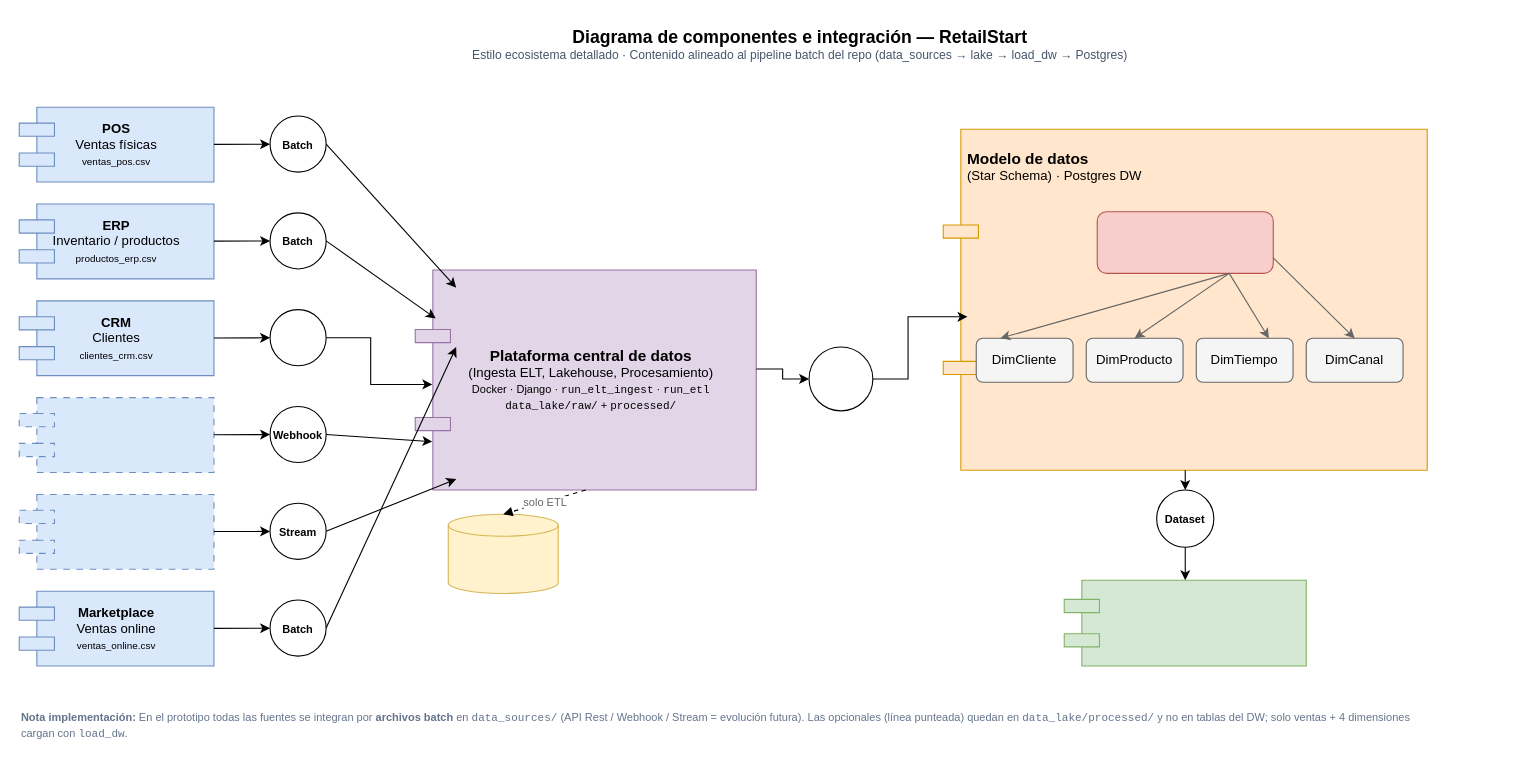
Image size: 1513x781. Some labels were removed from this diagram. The centre of each missing label's shape, as x and y in pixels:
"API Rest" belongs at pixel 297 337.
"Consumo BI /dashboard/ · /analytics/ (Django · Chart.js)" belongs at pixel 1184 622.
"FactVentas cantidad, precio_unitario, monto" belongs at pixel 1184 242.
"load_dw SQL / ORM" belongs at pixel 840 378.
"Logística / E-commerce JSON / XML logística.xml (opc.)" belongs at pixel 116 434.
"processed/ (opcionales)" belongs at pixel 502 553.
"Redes & Call Center Comentarios / CSV redes, callcenter (opc.)" belongs at pixel 116 531.
